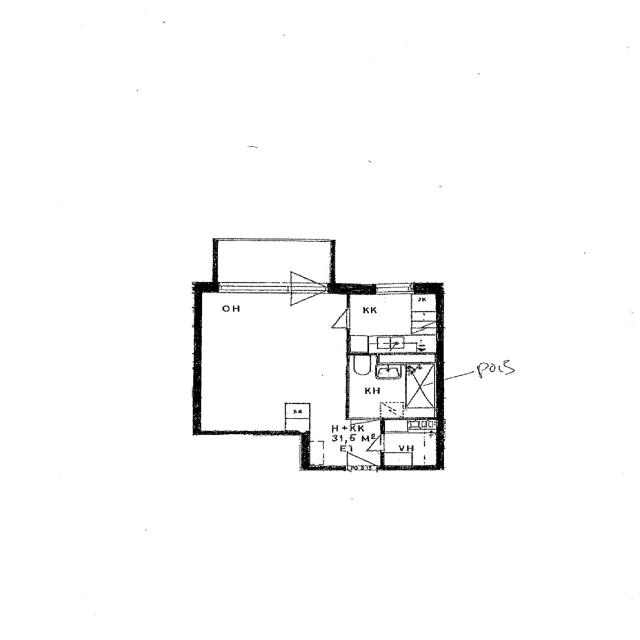door: (291, 282, 326, 318), (291, 257, 326, 292), (347, 444, 377, 471), (347, 466, 377, 492), (320, 309, 349, 327), (352, 417, 375, 437), (358, 434, 385, 450)
